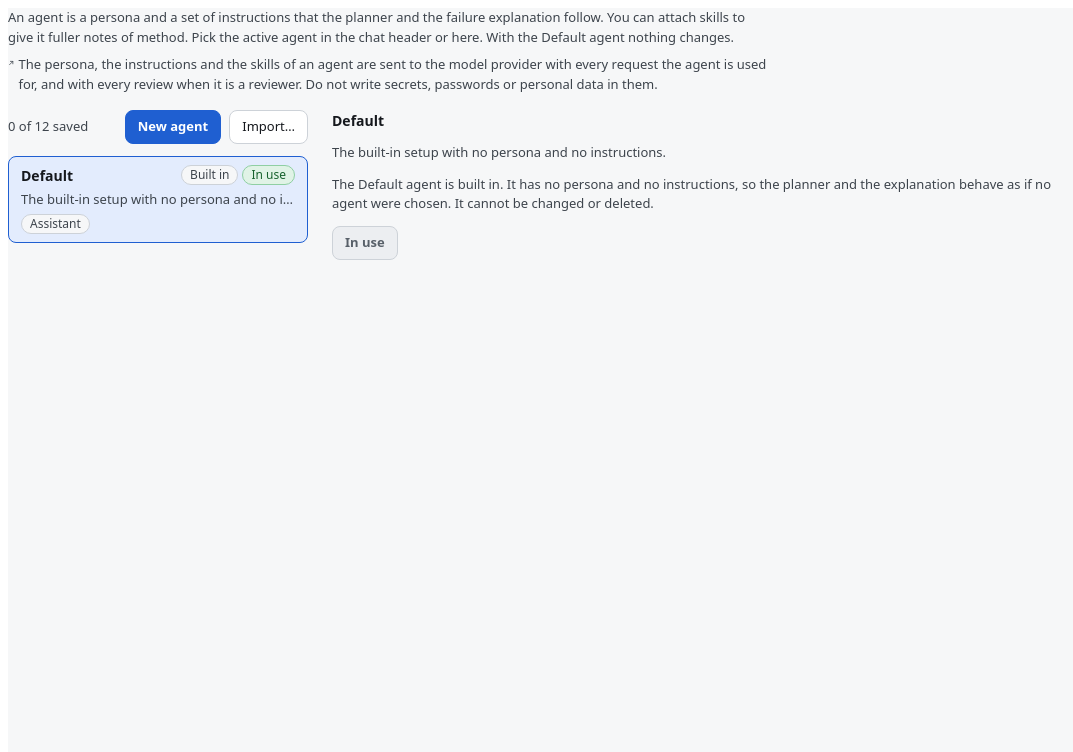
Scenario: the review of an imported file › applies the normalisation of a save: a file name with extra spaces is saved tidy
The width and height of the screenshot is (1073, 752).
Later steps or results of the test are not shown.
Expected: the list named "Agent list" is shown, [8,156,308,242]
Click the button "Import…".
click(269, 127)  # box [229,110,308,144]
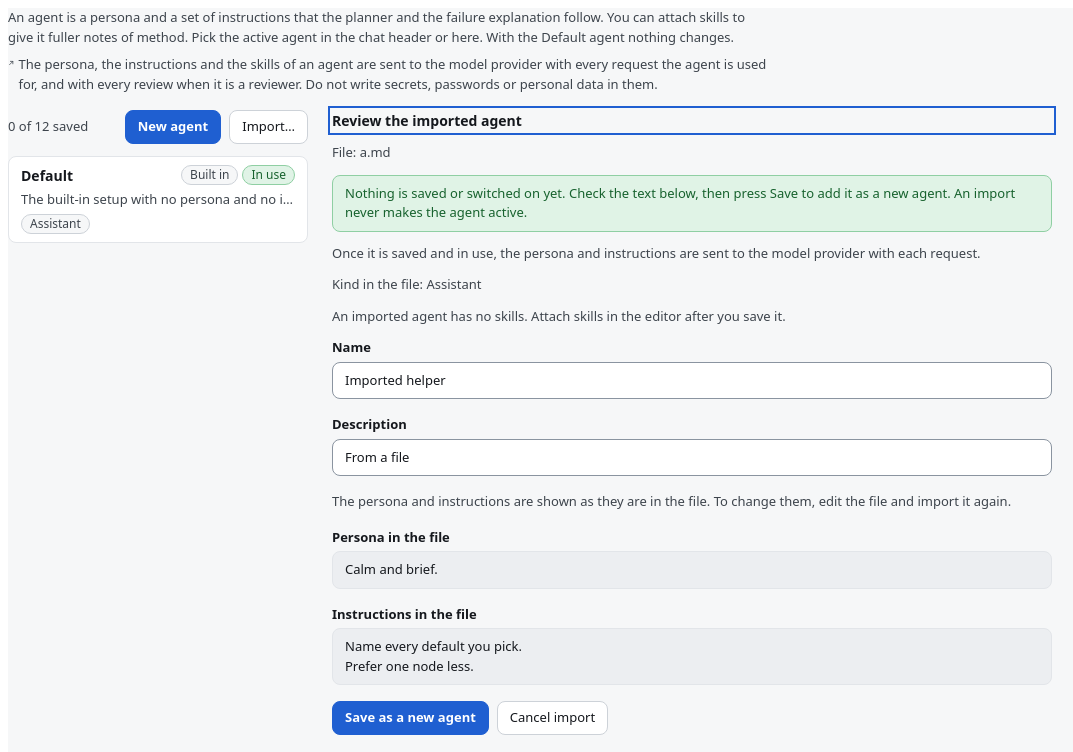
Result: the heading "Review the imported agent" is shown at [332,111,522,130]
Result: the field labelled "Name" holds "Imported helper" at [332,362,1052,399]
